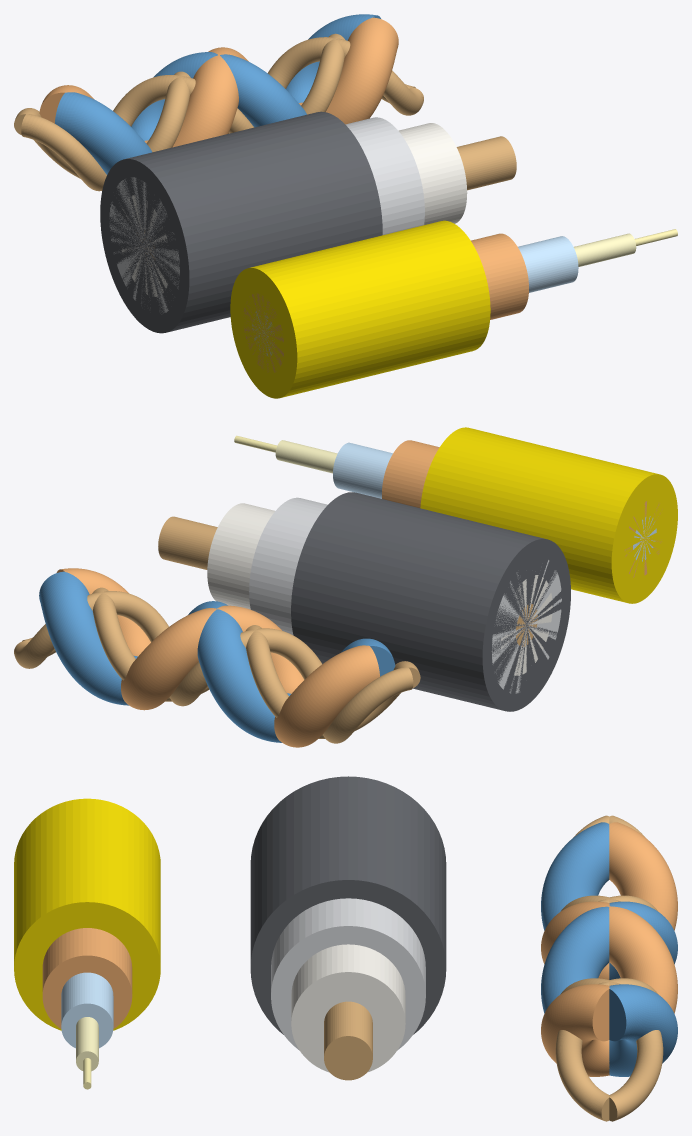
Rendered from combined.glb.
The picture shows the model from 3 angles, top to bottom: view 1: azimuth 30°, elevation 25°; view 2: azimuth 150°, elevation 25°; view 3: azimuth 270°, elevation 25°; orthographic projection. The views are drawn at different scales.
Parts seen in each view (by area): view 1: part_4, part_8, part_2, part_3, part_5, part_0, part_6, part_9, part_1, part_10, part_7, part_11; view 2: part_4, part_8, part_3, part_2, part_5, part_1, part_6, part_0, part_9, part_7, part_10, part_11; view 3: part_4, part_8, part_3, part_2, part_5, part_6, part_9, part_7, part_0, part_1, part_10, part_11.
Boxes of the visible parts, x1,y1,x2,y2 form: part_4: (100,111,382,333); part_8: (230,220,490,398); part_2: (55,14,380,174); part_3: (39,17,398,147); part_5: (109,117,424,314); part_0: (21,37,423,191); part_6: (120,123,467,296); part_9: (243,233,528,372); part_1: (14,33,415,178); part_10: (252,236,578,356); part_7: (142,136,516,266); part_11: (259,233,636,336); part_4: (291,492,570,711); part_8: (420,427,677,603); part_3: (56,568,379,747); part_2: (39,571,395,742); part_5: (249,497,561,693); part_1: (14,591,413,743); part_6: (207,503,552,675); part_0: (22,587,420,738); part_9: (382,440,662,577); part_7: (158,516,537,646); part_10: (333,442,656,561); part_11: (275,440,649,548); part_4: (250,776,446,1034); part_8: (14,798,160,1030); part_3: (541,822,677,1076); part_2: (541,822,677,1076); part_5: (271,898,425,1050); part_6: (291,944,405,1072); part_9: (42,928,132,1028); part_7: (324,1001,372,1080); part_0: (555,815,658,1121); part_1: (560,815,663,1121); part_10: (61,972,113,1048); part_11: (76,1017,98,1071).
Size of the model in its own units: 0.3264 by 0.12 by 0.407.
